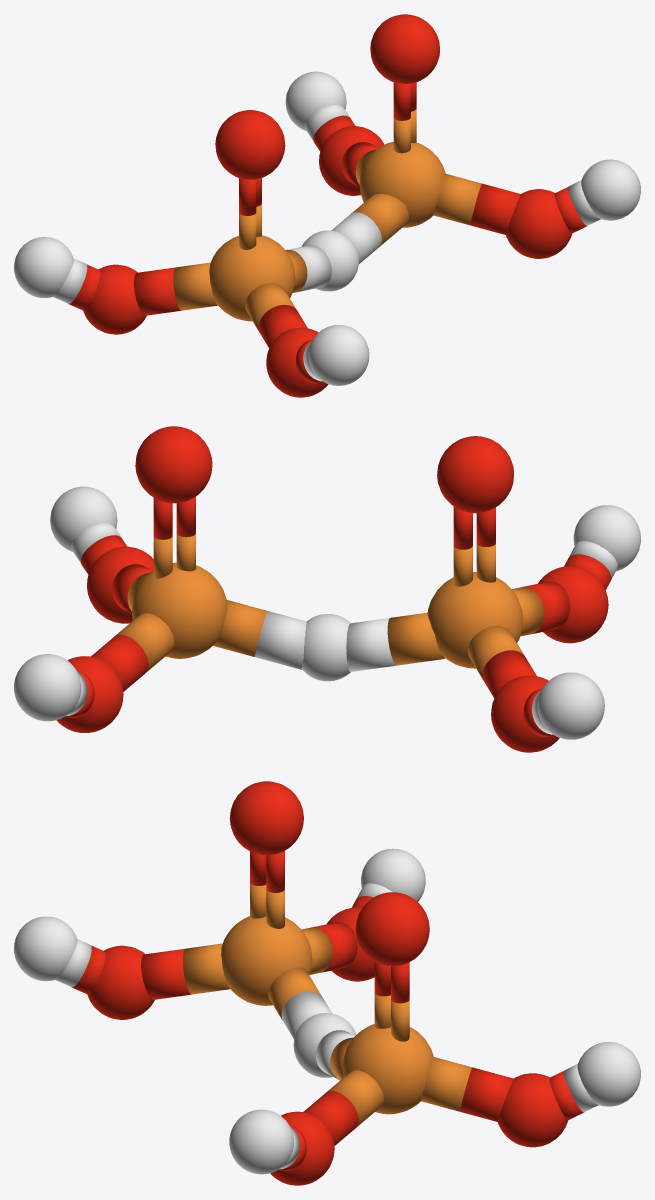
Rendered from Пирофосфорная.gltf.
3 views of the same model, one above another, from view 1: azimuth 30°, elevation 25°; view 2: azimuth 150°, elevation 25°; view 3: azimuth 270°, elevation 25° (orthographic). The views are drawn at different scales.
Visible parts, largest first — view 1: Sphere.021; view 2: Sphere.021; view 3: Sphere.021.
Boxes of the visible parts, x1=… form: Sphere.021: x1=14, y1=14, x2=640, y2=397; Sphere.021: x1=14, y1=426, x2=640, y2=752; Sphere.021: x1=14, y1=781, x2=640, y2=1185.
Size of the model in its own units: 14.69 by 5.72 by 13.51.
